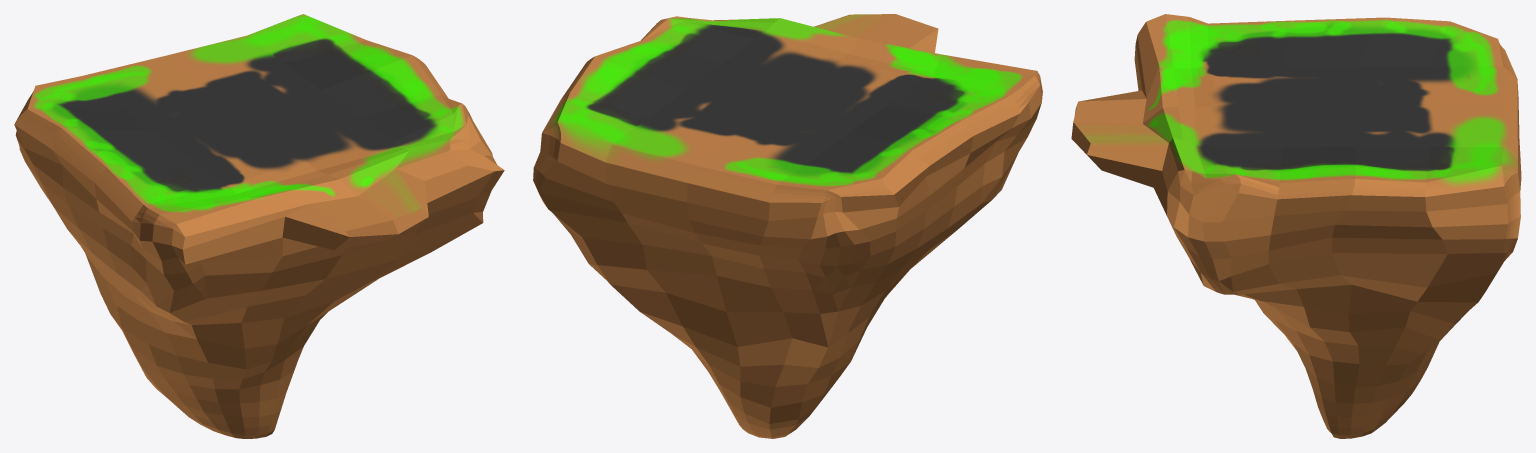
Rendered from Castle_02 Ground.fbx.
3 renders of one model, left to right at view 1: azimuth 30°, elevation 25°; view 2: azimuth 150°, elevation 25°; view 3: azimuth 270°, elevation 25°, orthographic.
Visible parts, largest first — view 1: Cube.120; view 2: Cube.120; view 3: Cube.120.
Part boxes in pixels (x1,y1,x2,y2): Cube.120: (14,14,504,438); Cube.120: (533,14,1042,438); Cube.120: (1071,14,1521,438).
Size of the model in its own units: 5291 by 4643 by 5638.
